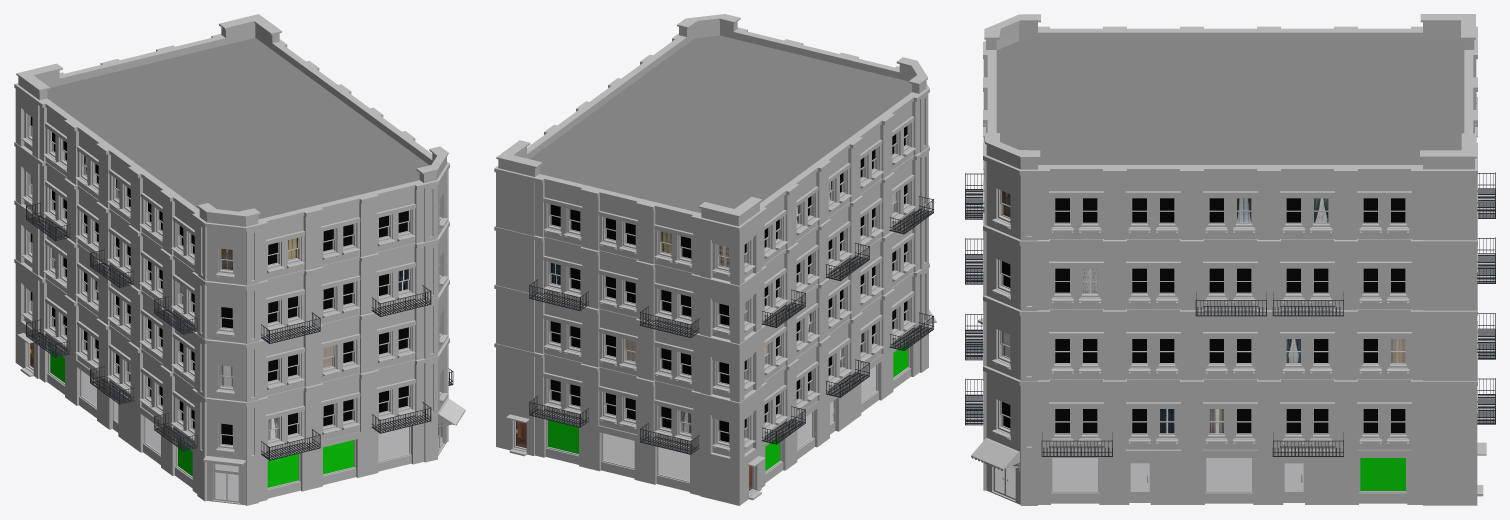
Rendered from Building06.fbx.
The picture shows the model from 3 angles, left to right: view 1: azimuth 30°, elevation 25°; view 2: azimuth 150°, elevation 25°; view 3: azimuth 270°, elevation 25°; orthographic projection. The views are drawn at different scales.
Visible parts, largest first — view 1: Building06; view 2: Building06; view 3: Building06.
Boxes of the visible parts, bbox=[...] form: Building06: bbox=[14, 14, 465, 505]; Building06: bbox=[494, 14, 936, 505]; Building06: bbox=[965, 14, 1495, 505].
Size of the model in its own units: 2200 by 2249 by 3100.
